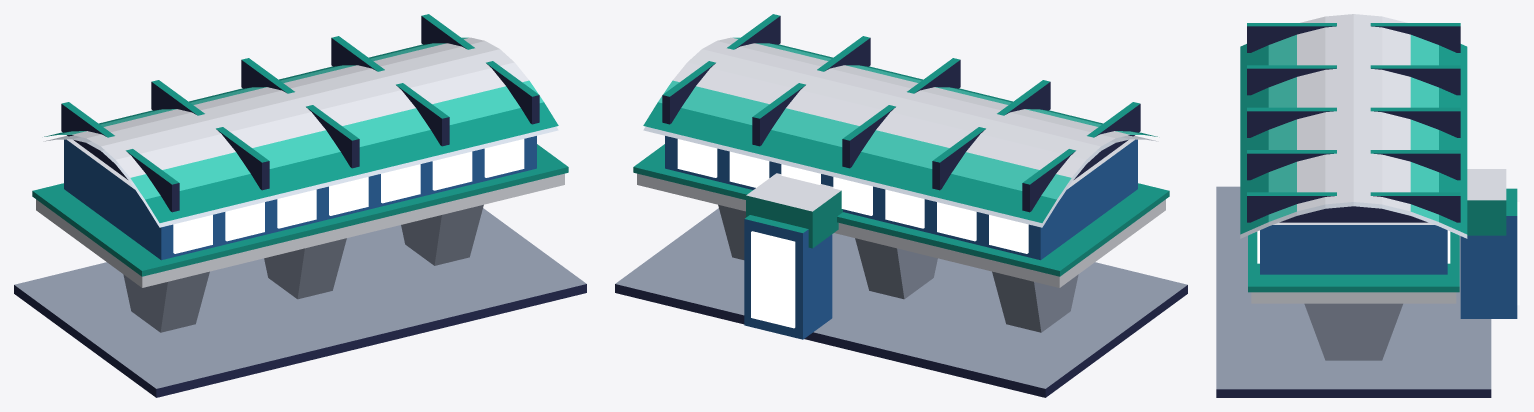
The model's file is station-elevated-mrt.glb.
The picture shows the model from 3 angles, left to right: view 1: azimuth 30°, elevation 25°; view 2: azimuth 150°, elevation 25°; view 3: azimuth 270°, elevation 25°; orthographic projection. The views are drawn at different scales.
Parts seen in each view (by area): view 1: station-elevated-mrt_root; view 2: station-elevated-mrt_root; view 3: station-elevated-mrt_root.
Part boxes in pixels (box(x1,y1,x2,y2)): station-elevated-mrt_root: box(14, 14, 586, 397); station-elevated-mrt_root: box(615, 14, 1187, 397); station-elevated-mrt_root: box(1216, 14, 1519, 397).
Size of the model in its own units: 22 by 9.55 by 13.9.
2 materials, 2 textured.
